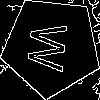W: (27, 22, 77, 73)
